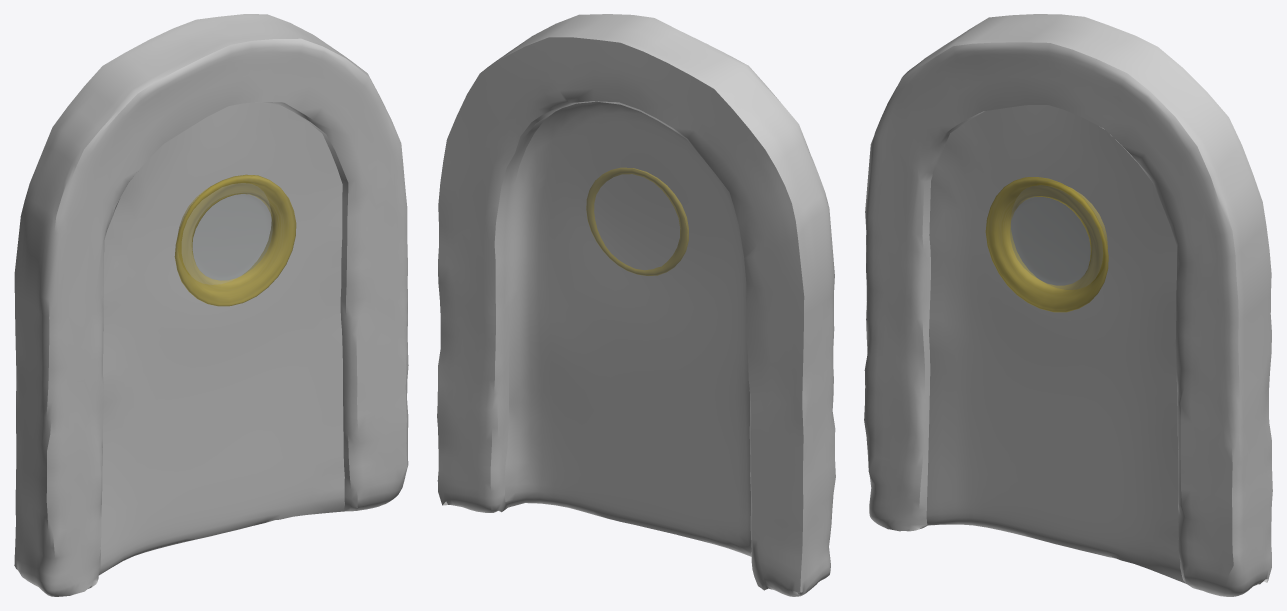
File: PuertaRojiblancas.fbx
The picture shows the model from 3 angles, left to right: view 1: azimuth 30°, elevation 25°; view 2: azimuth 150°, elevation 25°; view 3: azimuth 330°, elevation 25°; orthographic projection. The views are drawn at different scales.
Parts seen in each view (by area): view 1: PuertaVentana4, VentanaPuerta2.002; view 2: PuertaVentana4, VentanaPuerta2.002; view 3: PuertaVentana4, VentanaPuerta2.002.
Part boxes in pixels (x1,y1,x2,y2): PuertaVentana4: (14,14,408,596); VentanaPuerta2.002: (174,174,296,306); PuertaVentana4: (437,14,835,596); VentanaPuerta2.002: (586,167,688,275); PuertaVentana4: (864,14,1272,596); VentanaPuerta2.002: (985,177,1108,312).
Bounding box in the file's own units: 226 × 304 × 44.05.
